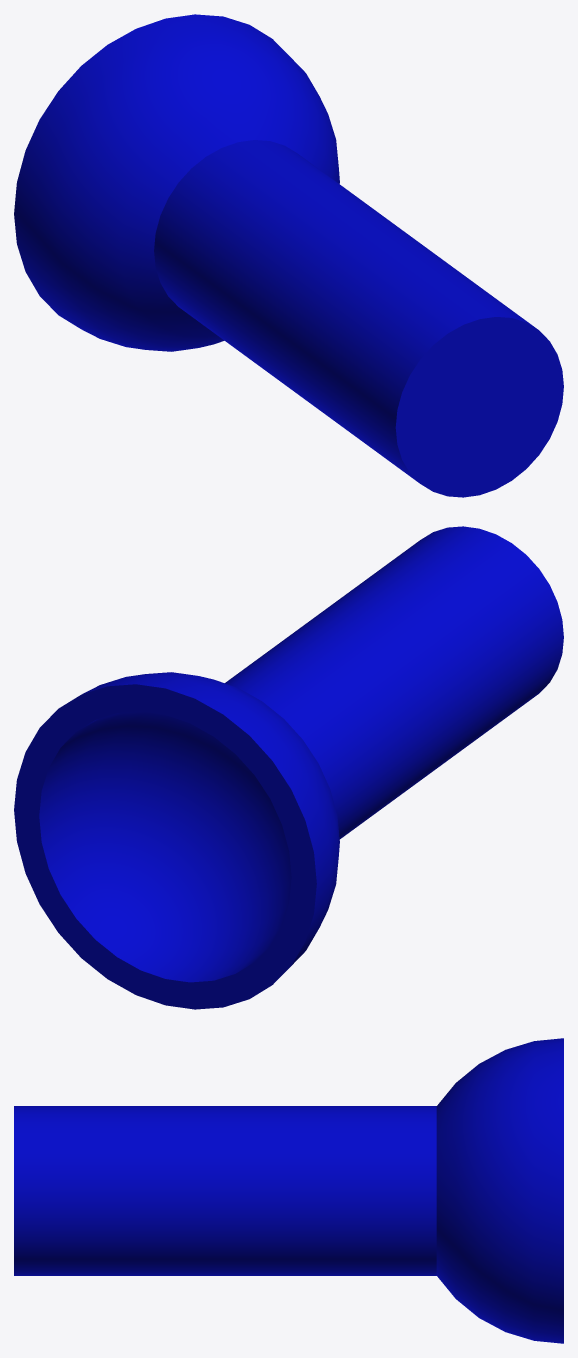
Rendered from ball_joint_socket.obj.
3 renders of one model, top to bottom at view 1: azimuth 30°, elevation 25°; view 2: azimuth 150°, elevation 25°; view 3: azimuth 270°, elevation 25°, orthographic. The views are drawn at different scales.
Parts seen in each view (by area): view 1: ball_joint_socket_Sphere; view 2: ball_joint_socket_Sphere; view 3: ball_joint_socket_Sphere.
Boxes of the visible parts, left/top/right/bottom form: ball_joint_socket_Sphere: left=14, top=14, right=563, bottom=497; ball_joint_socket_Sphere: left=14, top=526, right=563, bottom=1009; ball_joint_socket_Sphere: left=14, top=1038, right=563, bottom=1343.
Bounding box in the file's own units: 0.168 × 0.168 × 0.302.
